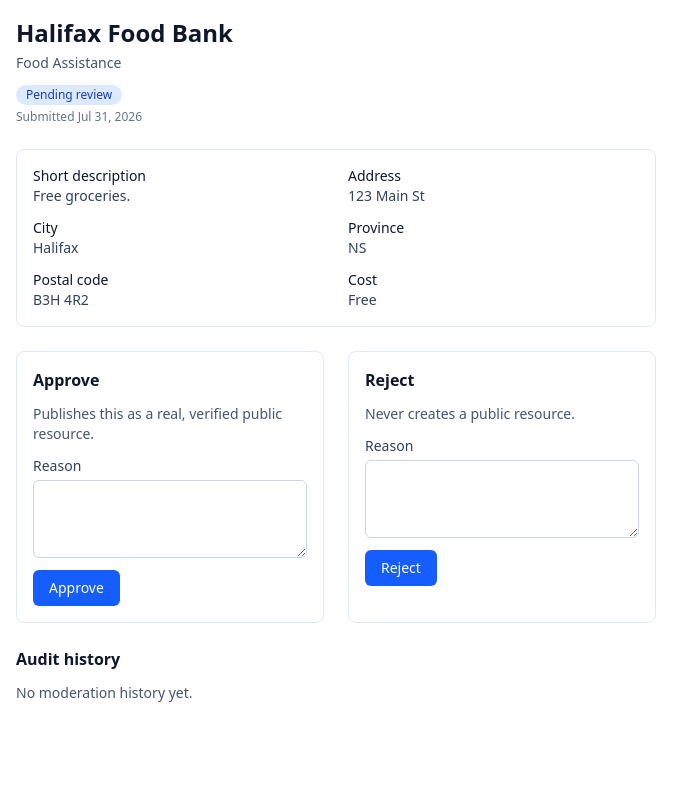
Test: ResourceSubmissionReviewDetail › requires a reason of at least 5 characters before submitting
Expected: the heading "Halifax Food Bank" is shown, 16,16 -> 233,49
Type "Hi" into the 2nd text box labelled "Reason".
click(170, 519); type("Hi")  # box 33,480 -> 307,558
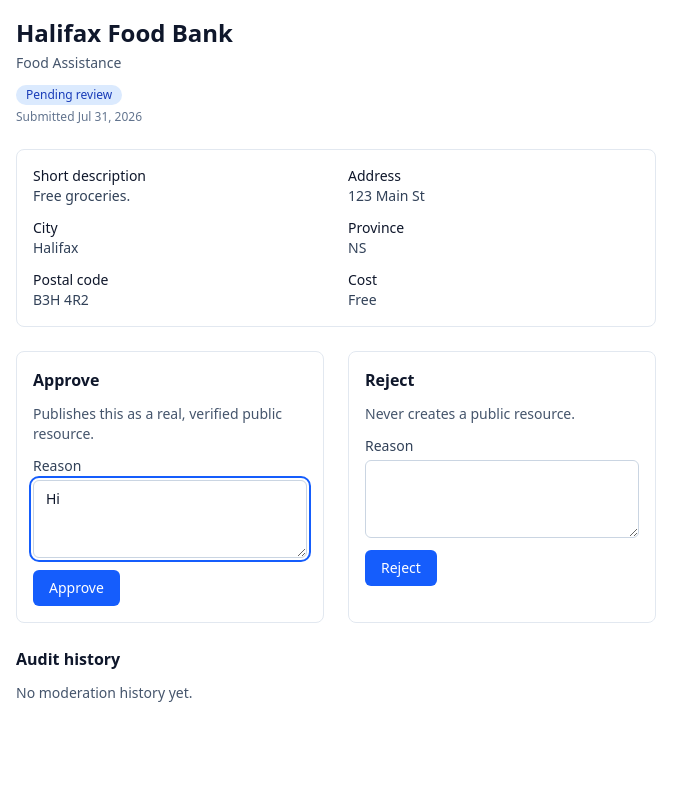
Click the button "Approve".
click(76, 588)  # box 33,570 -> 120,606
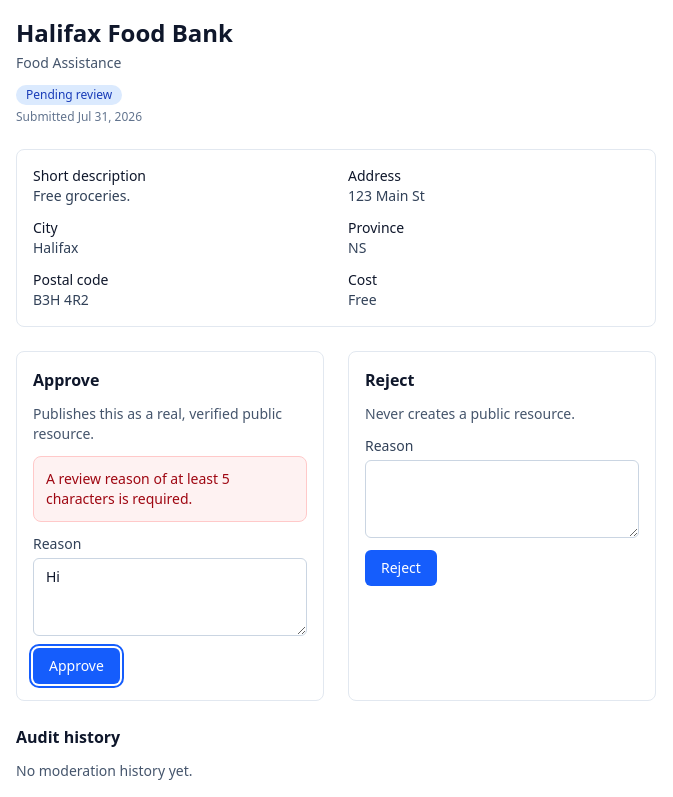
Expected: the message shows "at least 5 characters", 46,469 -> 230,508
